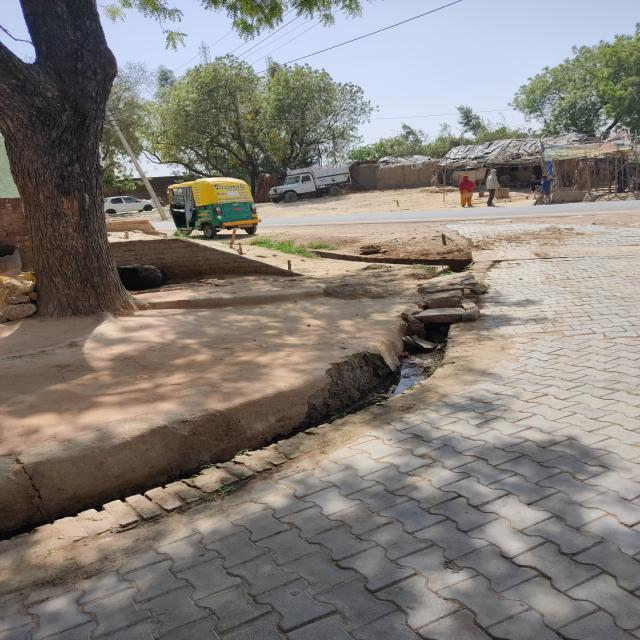Autorickshaw: (166, 175, 262, 237)
Car: (100, 192, 160, 215)
Truck: (263, 160, 364, 204)
